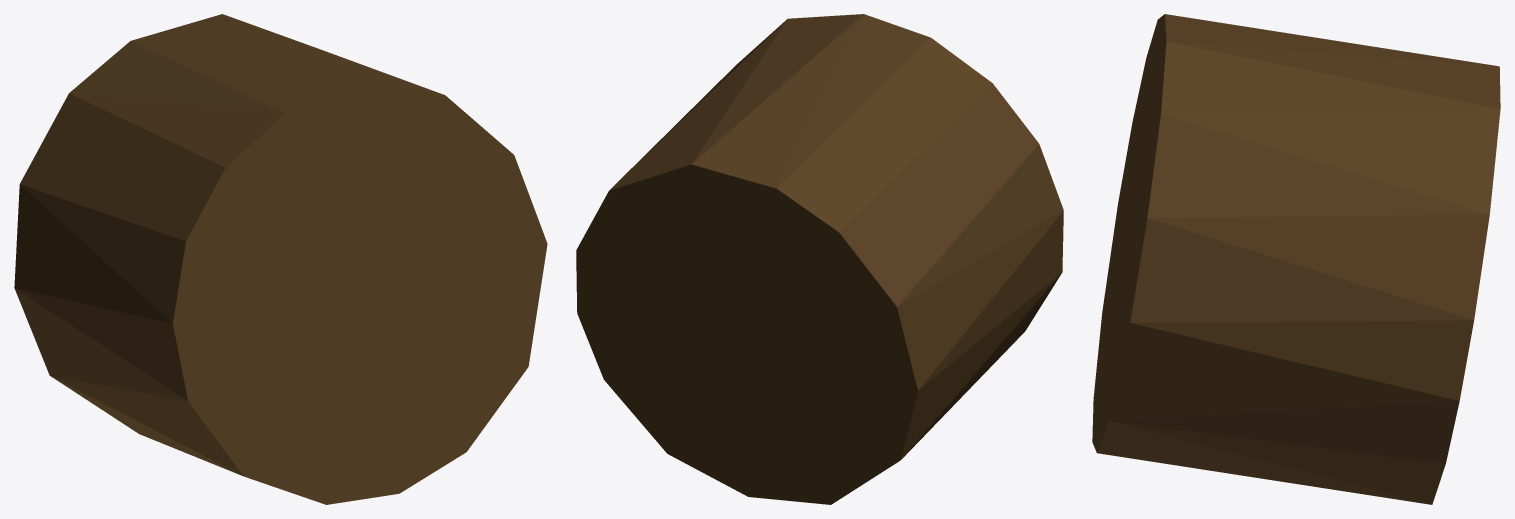
Rendered from right_elbow_x_link_visual_10.obj.
3 renders of one model, left to right at view 1: azimuth 30°, elevation 25°; view 2: azimuth 150°, elevation 25°; view 3: azimuth 270°, elevation 25°, orthographic. The views are drawn at different scales.
Parts seen in each view (by area): view 1: i01.right.bicep.full.011_visual.001; view 2: i01.right.bicep.full.011_visual.001; view 3: i01.right.bicep.full.011_visual.001.
Boxes of the visible parts, left/top/right/bottom form: i01.right.bicep.full.011_visual.001: left=14, top=14, right=547, bottom=504; i01.right.bicep.full.011_visual.001: left=576, top=14, right=1063, bottom=504; i01.right.bicep.full.011_visual.001: left=1092, top=14, right=1500, bottom=504.
Bounding box in the file's own units: 0.0721 × 0.0798 × 0.0657.
